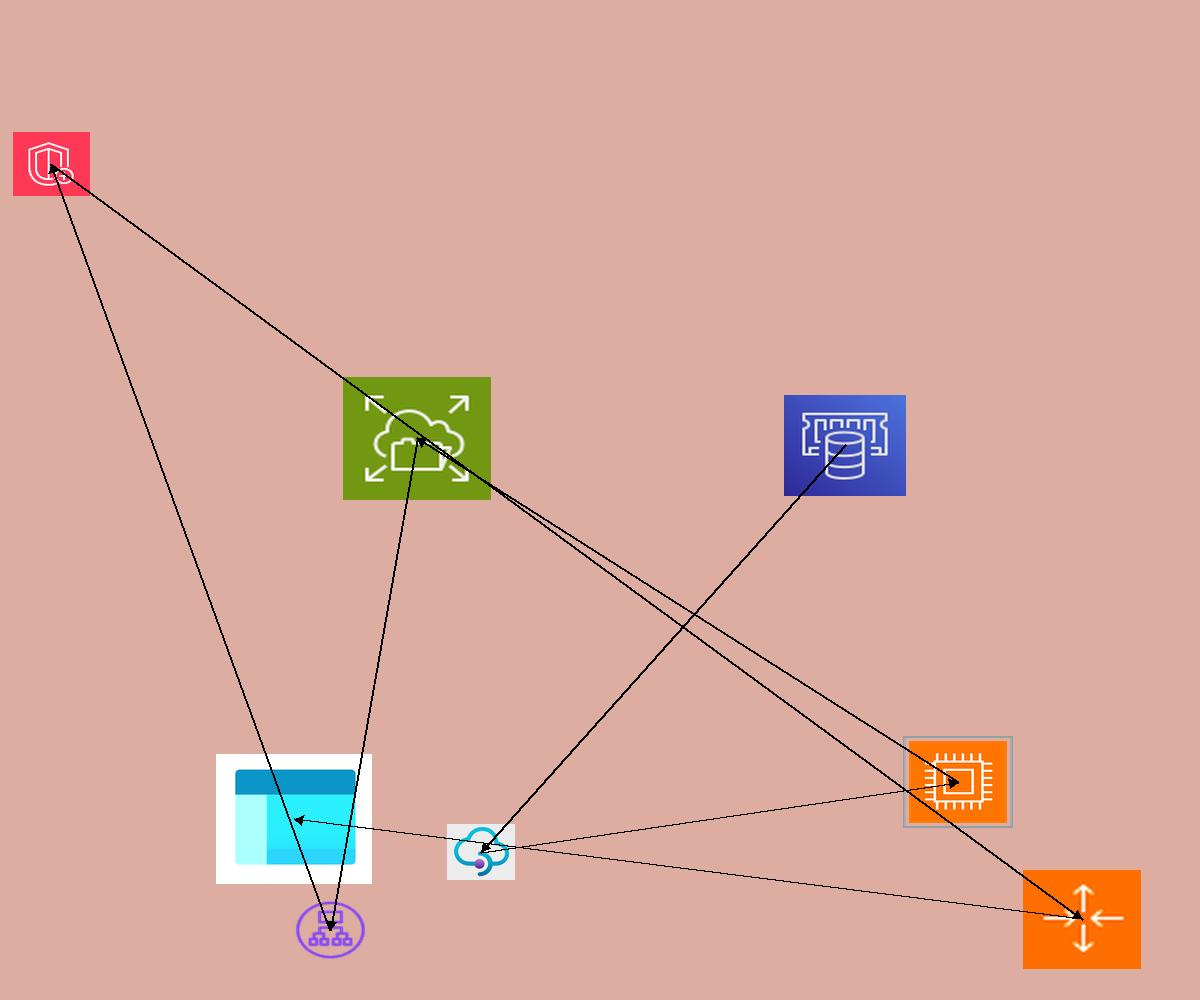AWS-Category_Compute: (903, 736, 1013, 828)
AWS-EFS: (343, 377, 491, 500)
AWS-ElastiCache: (784, 395, 906, 496)
AWS-Res_Elastic-Load-Balancing_Application-Load-Balancer: (293, 899, 368, 961)
AWS-Scaling-group: (1023, 870, 1141, 969)
AWS-Shield: (13, 132, 90, 196)
Azure_api_gateway: (447, 824, 515, 880)
Azure_management-portal: (216, 754, 372, 884)
